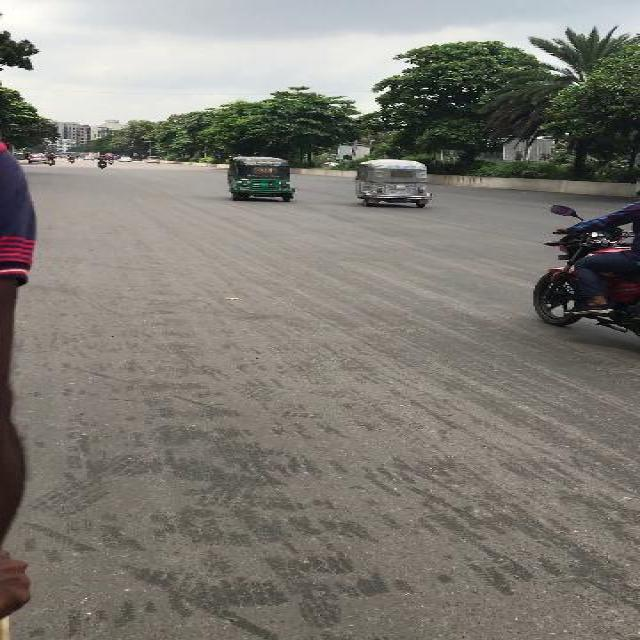car: (118, 156, 131, 160)
minivan: (144, 155, 158, 163)
motorbike: (529, 202, 637, 336), (94, 154, 105, 168), (46, 152, 54, 166), (106, 156, 114, 164), (68, 154, 74, 162)
suv: (26, 152, 44, 164)
three wheelers -CNG-: (352, 158, 434, 208), (226, 156, 293, 202)
